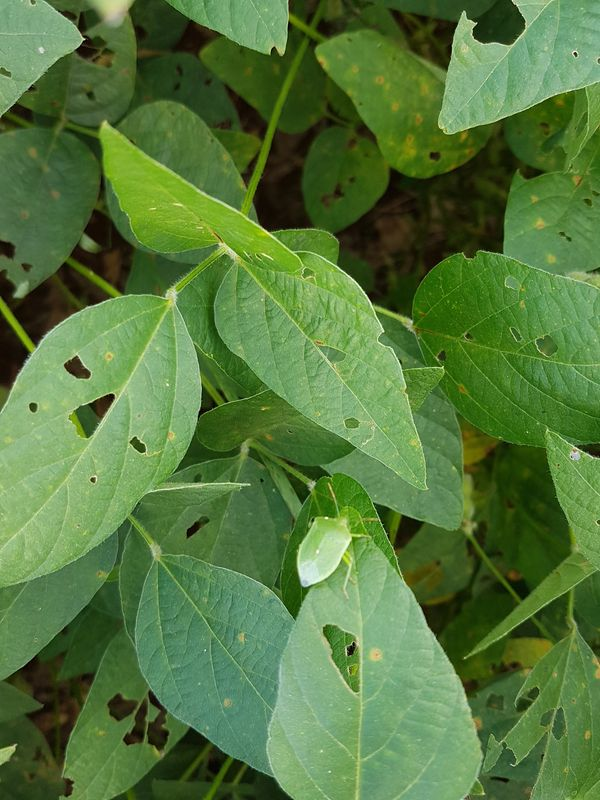Nezara_viridula_adulto: (268, 470, 401, 609)
